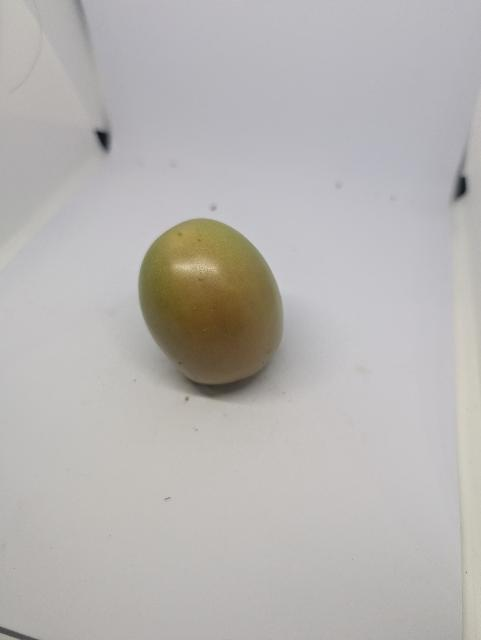breaker: (135, 216, 289, 392)
